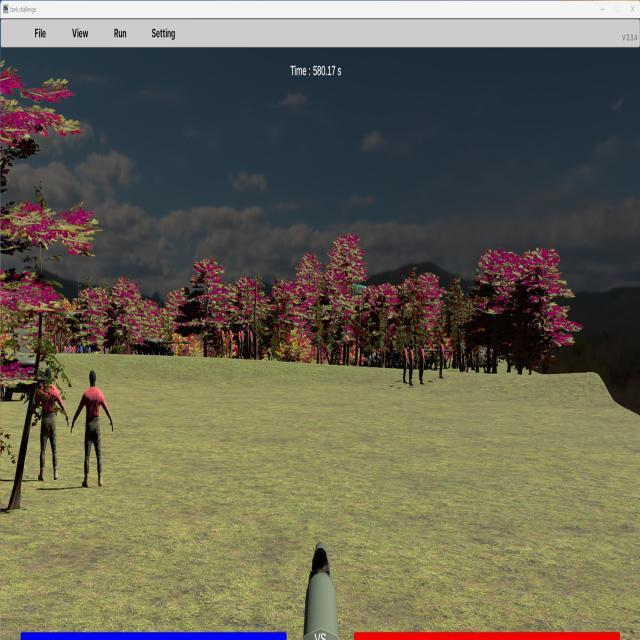Human: (71, 369, 113, 488), (31, 365, 69, 481), (416, 341, 427, 385)
